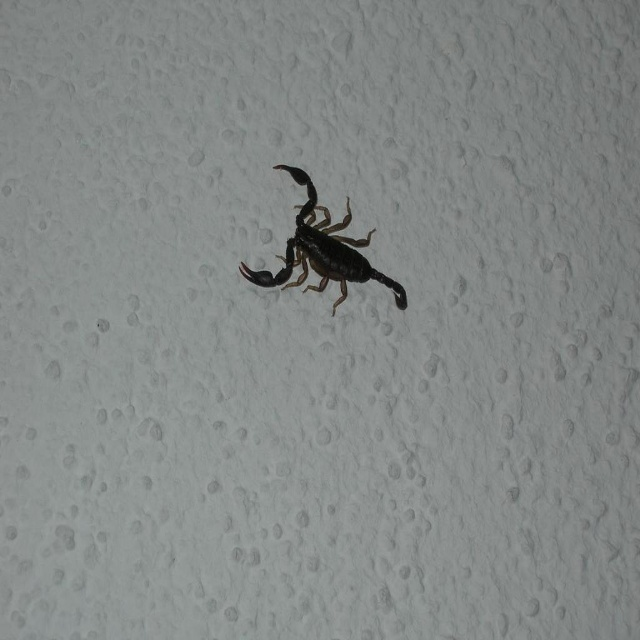Scorpion: (239, 165, 409, 313)
